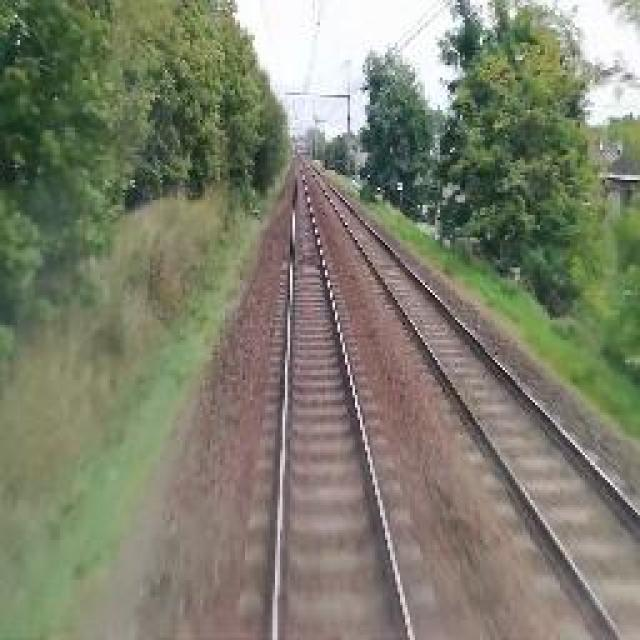rail: (239, 160, 449, 639)
